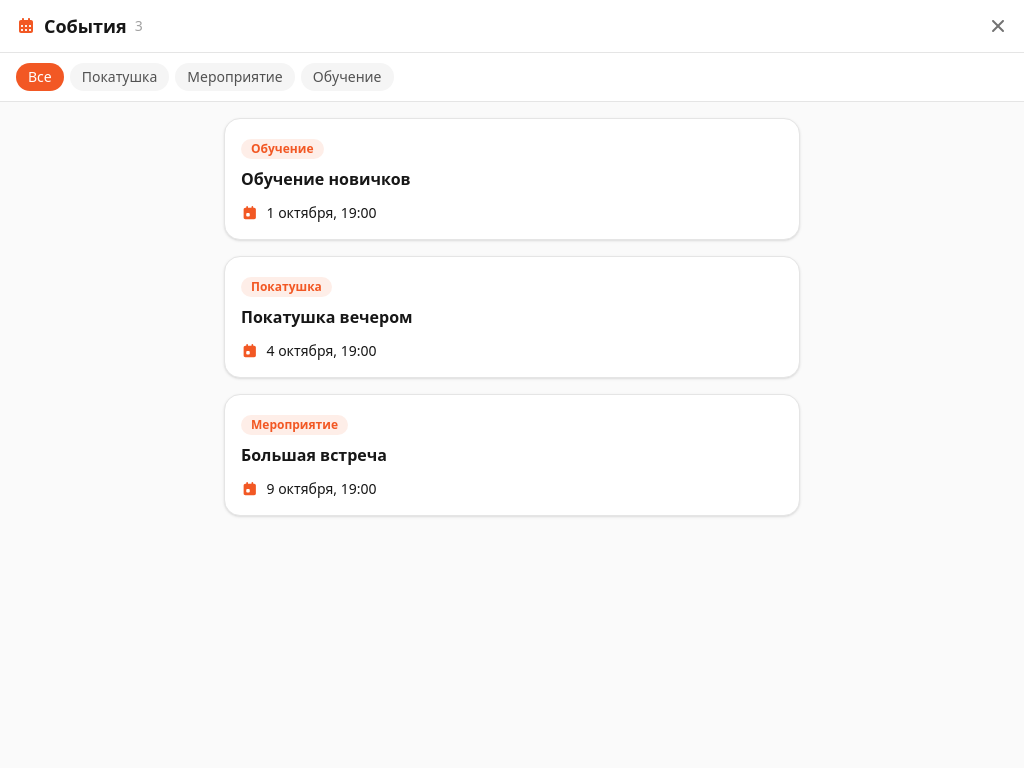
Test: EventsScreen › фильтрует по типу события
The image size is (1024, 768).
Click the button "Обучение" at coordinates (347, 77), box left=301, top=63, right=394, bottom=91
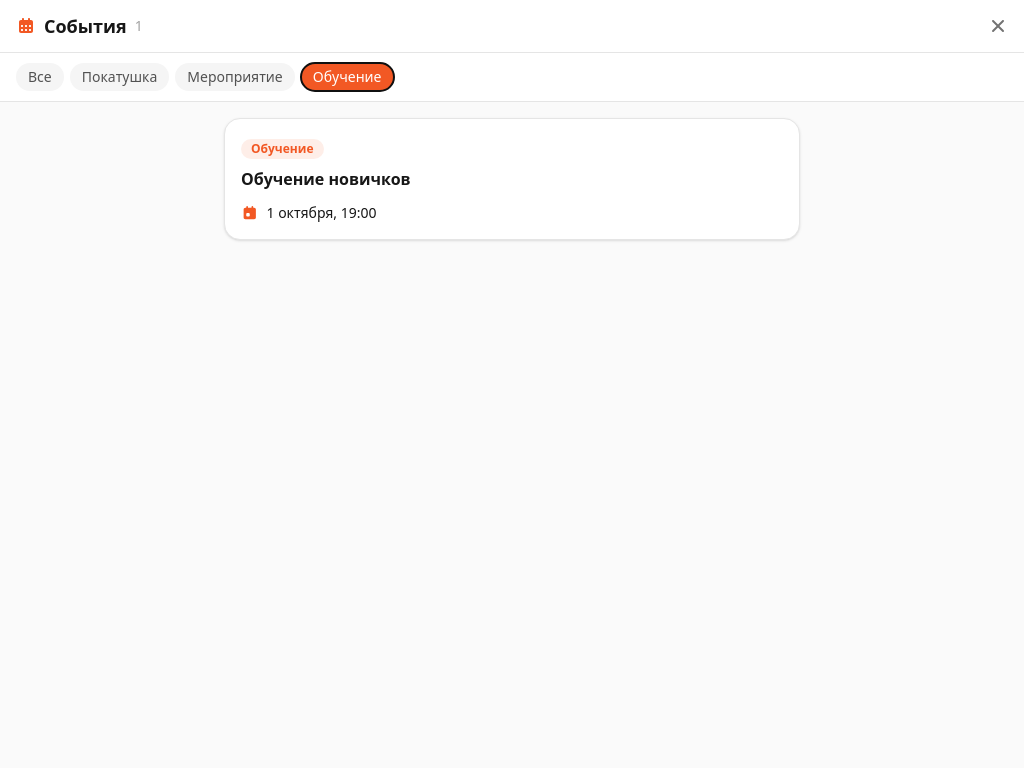
Expected: the heading "Обучение новичков" is shown, left=241, top=168, right=411, bottom=190
Expected: the link "Покатушка вечером" is gone
Expected: the link "Большая встреча" is gone
